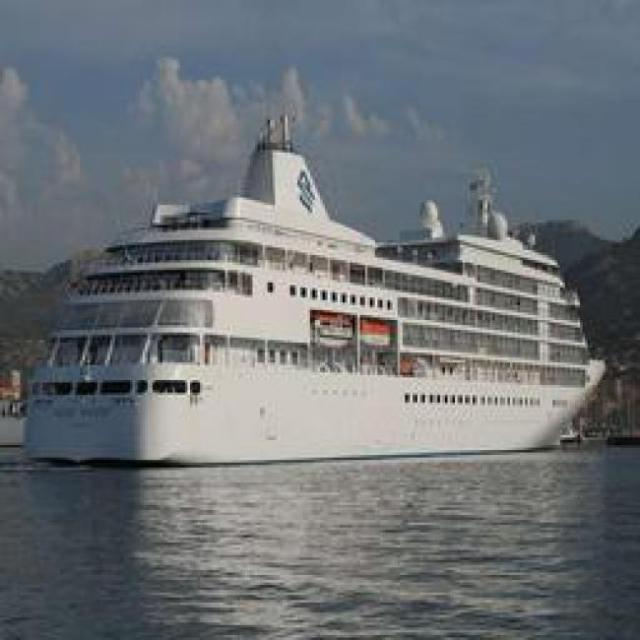boat: (32, 198, 585, 454)
